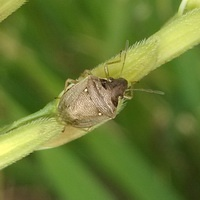insect: (0, 48, 137, 168)
